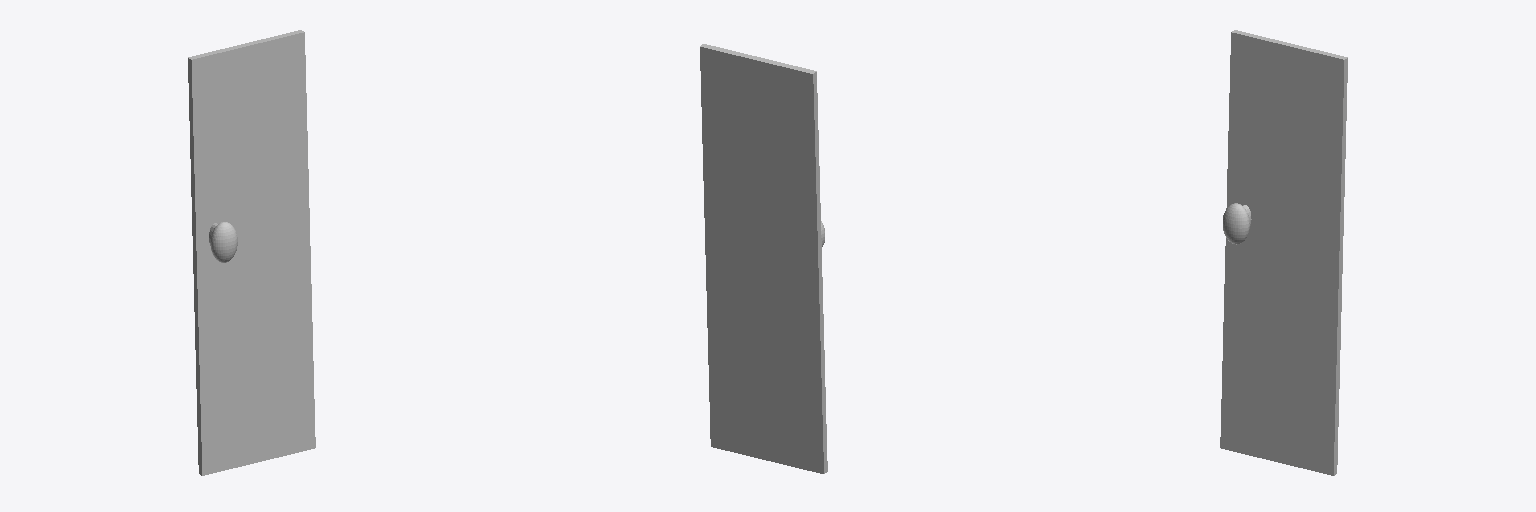
File: wardrobe_door1.obj
3 renders of one model, left to right at view 1: azimuth 30°, elevation 25°; view 2: azimuth 150°, elevation 25°; view 3: azimuth 330°, elevation 25°, orthographic.
Visible parts, largest first — view 1: obj_0; view 2: obj_0; view 3: obj_0.
Boxes of the visible parts, x1=… form: obj_0: x1=188, y1=30, x2=315, y2=475; obj_0: x1=700, y1=44, x2=827, y2=473; obj_0: x1=1220, y1=30, x2=1347, y2=475.
Size of the model in its own units: 18 by 61.98 by 6.3.